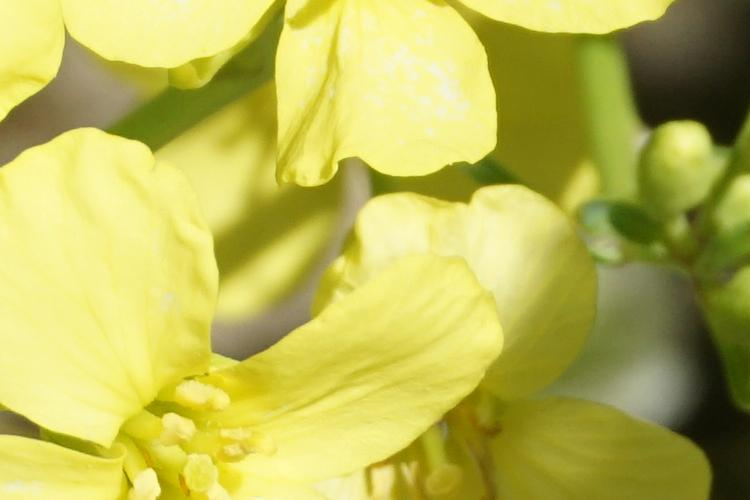bud: (642, 127, 710, 212), (605, 200, 669, 252), (720, 175, 750, 244)
yellow: (15, 145, 502, 482), (341, 202, 717, 498), (286, 9, 517, 180), (6, 2, 256, 89)
